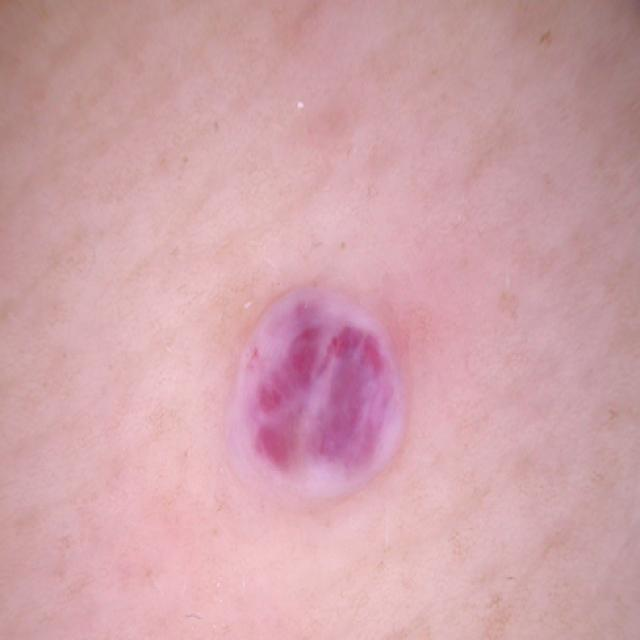Vascular Lesions: (217, 255, 439, 534)
